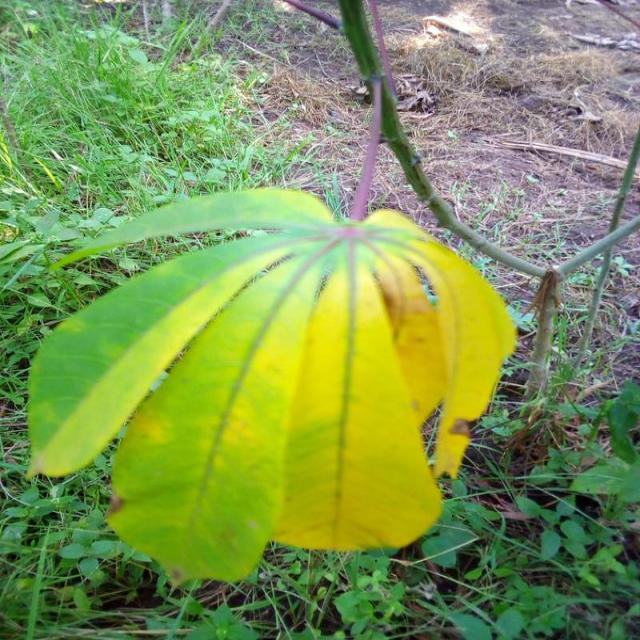cassava leaf: (26, 186, 518, 586)
